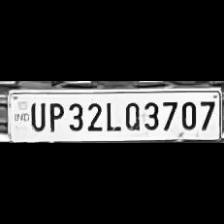0: (178, 98, 196, 130)
2: (84, 98, 104, 132)
3: (64, 99, 84, 131), (141, 98, 159, 130)
7: (196, 97, 216, 130), (159, 98, 177, 130)
L: (103, 99, 119, 131)
P: (44, 98, 64, 132)
Q: (120, 98, 140, 130)
U: (27, 99, 46, 131)
